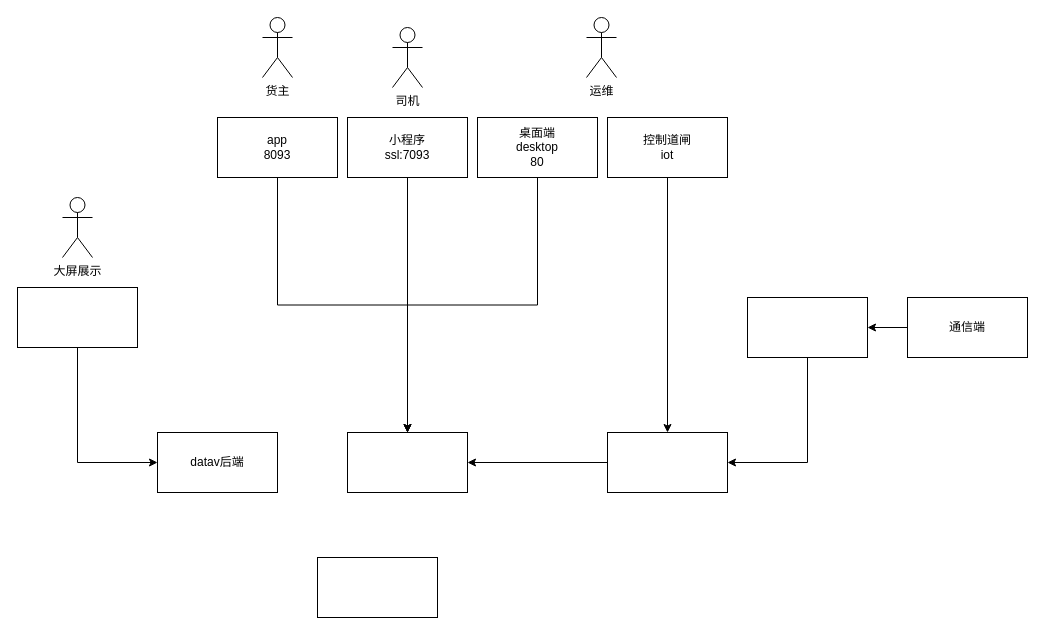
Image size: 1045x635. Some labels were removed from this diagram. The shapes that lost their labels are listed below. From the top down, each one's box as (x1, y1, x2, y2) in pixels, then its label:
(16, 286, 138, 348): datav
(746, 296, 868, 358): 过磅业务逻辑
(346, 432, 468, 492): new_platform
(606, 432, 728, 492): weigh
(316, 556, 438, 618): gateway
